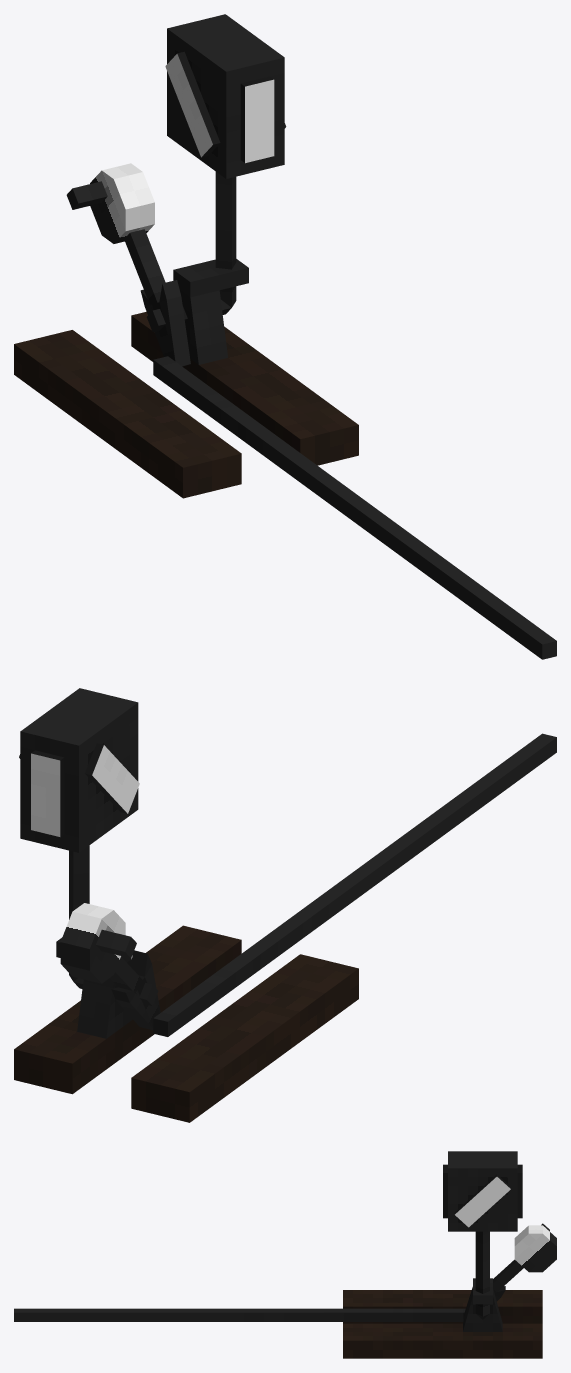
The model's file is left_side_left_turn_on.obj.
The picture shows the model from 3 angles, top to bottom: view 1: azimuth 30°, elevation 25°; view 2: azimuth 150°, elevation 25°; view 3: azimuth 270°, elevation 25°; orthographic projection. The views are drawn at different scales.
Visible parts, largest first — view 1: base; view 2: base; view 3: base.
Boxes of the visible parts, left/top/right/bottom form: base: left=14, top=14, right=556, bottom=659; base: left=14, top=688, right=556, bottom=1122; base: left=14, top=1151, right=556, bottom=1358.
Size of the model in its own units: 0.8438 by 1.34 by 3.4.
Materials: 1 (1 with a texture image).
